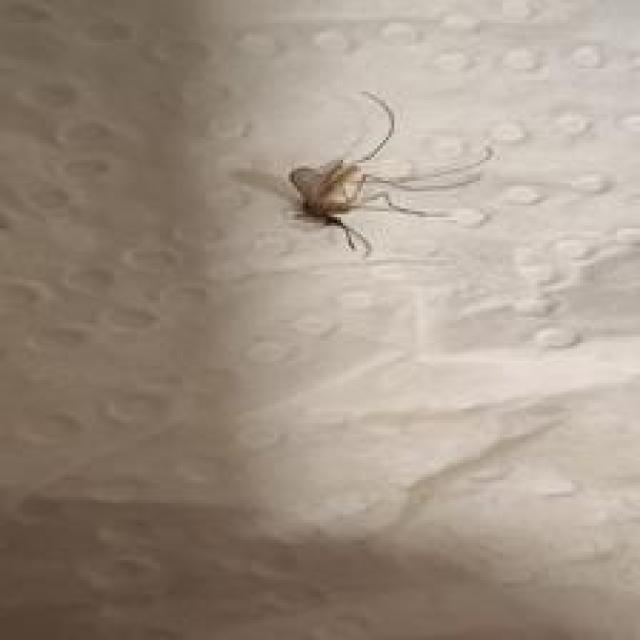Culex: (284, 89, 496, 257)
